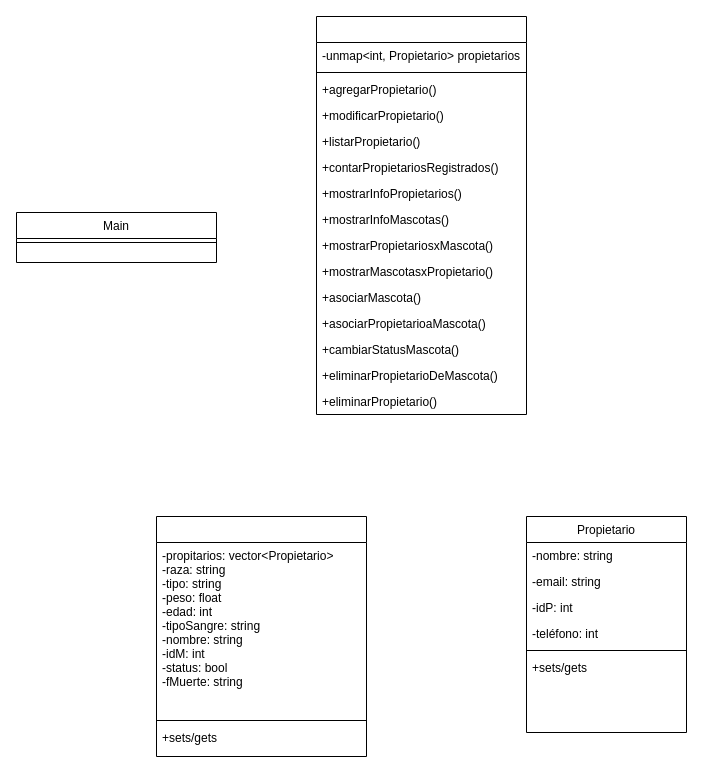
This 703x773 diagram has some shape labels left out. Here are the shapes that lost their labels. From the top down, the box of each, then its label:
(316, 16, 526, 414): Sistema
(156, 516, 366, 756): Mascota
